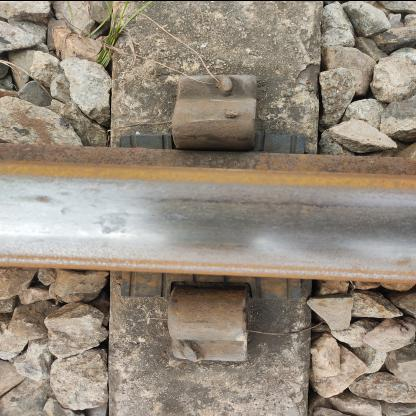Defective: (106, 45, 341, 409)
